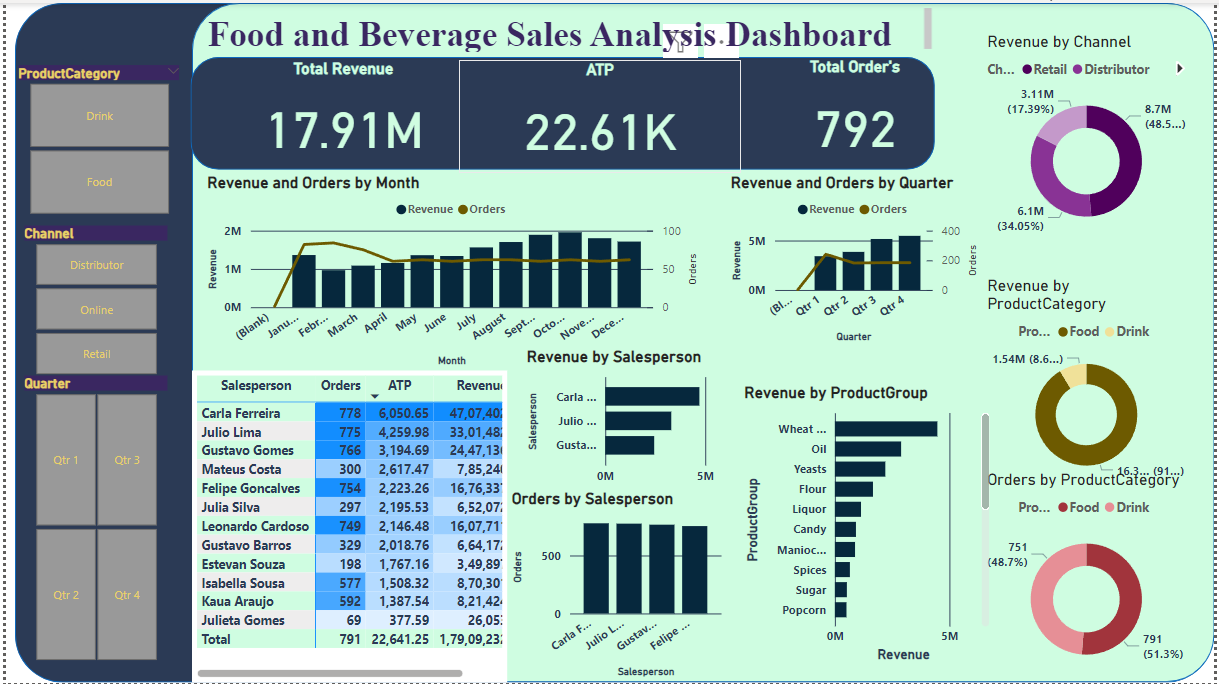

What the dashboard file says about the page in this screenshot:
{"tool":"powerbi","page":{"name":"Page 2","canvas":[1280,720],"ordinal":1},"visuals":[{"type":"shape","box":[9.5,0,1269.9,720],"z":0},{"type":"shape","box":[196.3,0,1083.7,719.3],"z":1000},{"type":"shape","box":[195.5,57.2,788.3,119.2],"z":2000},{"type":"card","title":"Total Revenue ","fields":{"Values":["Product.Revenue"]},"box":[208.2,58.8,298.8,119.2],"z":3000},{"type":"card","title":"ATP","fields":{"Values":["Product.ATP"]},"box":[479.2,60.4,298.8,119.2],"z":4000},{"type":"card","title":"Total Order''s","fields":{"Values":["Product.Orders"]},"box":[750.2,57.2,298.8,119.2],"z":5000},{"type":"donutChart","fields":{"Category":["Sheet1.Channel"],"Y":["Product.Revenue"]},"box":[1034.7,30.2,219.3,225.7],"z":6000},{"type":"donutChart","fields":{"Y":["Product.Revenue"],"Category":["Product.ProductCategory"]},"box":[1034.7,289.3,219.3,225.7],"z":7000},{"type":"donutChart","fields":{"Category":["Product.ProductCategory"],"Y":["Product.Orders"]},"box":[1034.7,494.3,219.3,225.7],"z":8000},{"type":"lineStackedColumnComboChart","fields":{"Y":["Product.Revenue"],"Y2":["Product.Orders"],"Category":["Sheet1.OrderDate.Variation.Date Hierarchy.Quarter"]},"box":[762.9,179.6,271.8,184.4],"z":9000},{"type":"barChart","fields":{"Y":["Product.Revenue"],"Category":["Product.ProductGroup"]},"box":[777.8,402.1,270,300.2],"z":10000},{"type":"lineStackedColumnComboChart","fields":{"Y":["Product.Revenue"],"Y2":["Product.Orders"],"Category":["Sheet1.OrderDate.Variation.Date Hierarchy.Month"]},"box":[207.7,179.4,530.5,209.6],"z":11000},{"type":"barChart","fields":{"Y":["Product.Revenue"],"Category":["Sheet1.Salesperson"]},"box":[547.5,364.4,230.3,154.8],"z":12000},{"type":"clusteredColumnChart","fields":{"Y":["Product.Orders"],"Category":["Sheet1.Salesperson"]},"box":[530.5,515.4,232.2,203.9],"z":13000},{"type":"pivotTable","fields":{"Rows":["Sheet1.Salesperson"],"Values":["Product.Orders","Product.ATP","Product.Revenue"]},"box":[197.1,389.4,333.8,330.6],"z":14000},{"type":"slicer","fields":{"Values":["Product.ProductCategory"]},"box":[0,60.4,196.3,169.9],"z":15000},{"type":"slicer","fields":{"Values":["Sheet1.Channel"]},"box":[5.7,230.3,177.5,169.9],"z":16000},{"type":"slicer","fields":{"Values":["Sheet1.OrderDate.Variation.Date Hierarchy.Quarter"]},"box":[5.7,388.9,177.5,313.4],"z":17000},{"type":"textbox","box":[207.7,0,777.8,56.6],"z":18000}]}

Visuals, with their boxes in screenshot pixels (x1, y1, x2, y2), scaled from the page's 1280x720 canvas onto the 1219x684 screenshot:
shape: detection(9, 0, 1218, 683)
shape: detection(187, 0, 1218, 683)
shape: detection(186, 54, 937, 168)
"Total Revenue " card: detection(198, 56, 483, 169)
"ATP" card: detection(456, 57, 741, 171)
"Total Order''s" card: detection(714, 54, 999, 168)
donutChart - Sheet1.Channel x Product.Revenue: detection(985, 29, 1194, 243)
donutChart - Product.Revenue x Product.ProductCategory: detection(985, 275, 1194, 489)
donutChart - Product.ProductCategory x Product.Orders: detection(985, 470, 1194, 683)
lineStackedColumnComboChart - Product.Revenue x Product.Orders: detection(727, 171, 985, 346)
barChart - Product.Revenue x Product.ProductGroup: detection(741, 382, 998, 667)
lineStackedColumnComboChart - Product.Revenue x Product.Orders: detection(198, 170, 703, 370)
barChart - Product.Revenue x Sheet1.Salesperson: detection(521, 346, 741, 493)
clusteredColumnChart - Product.Orders x Sheet1.Salesperson: detection(505, 490, 726, 683)
pivotTable - Sheet1.Salesperson x Product.Orders: detection(188, 370, 506, 683)
slicer - Product.ProductCategory: detection(0, 57, 187, 219)
slicer - Sheet1.Channel: detection(5, 219, 174, 380)
slicer - Sheet1.OrderDate.Variation.Date Hierarchy.Quarter: detection(5, 369, 174, 667)
textbox: detection(198, 0, 939, 54)
